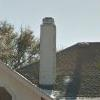Chimney: (28, 12, 67, 99)
